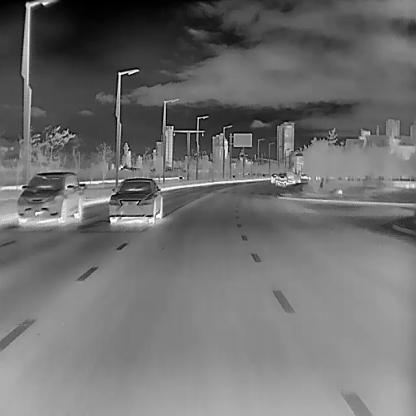car: (16, 171, 81, 225), (108, 177, 162, 225), (277, 172, 287, 186), (284, 171, 295, 183), (271, 171, 280, 182), (292, 174, 300, 183)
